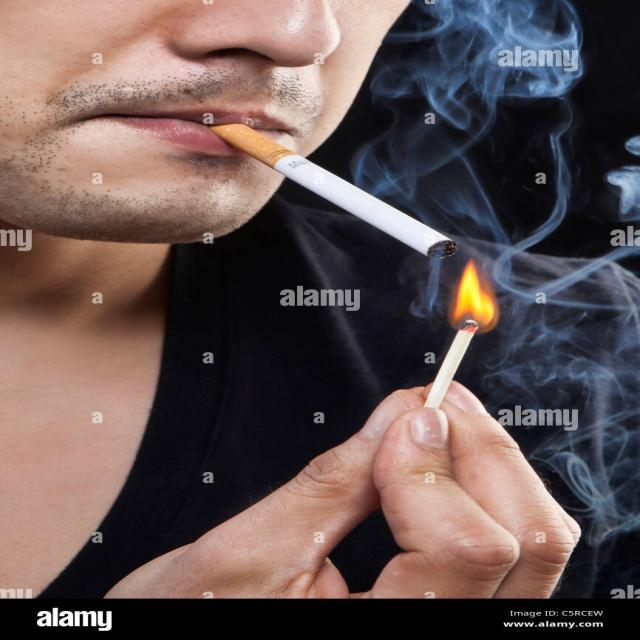fire: (426, 317, 476, 407), (448, 258, 500, 333)
